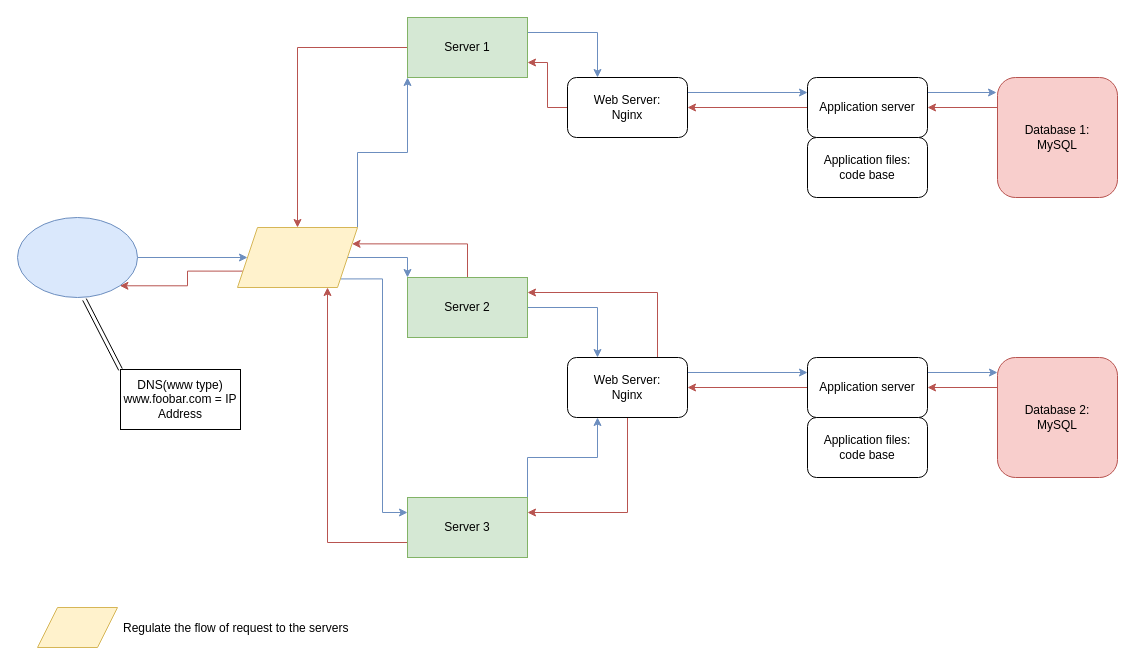
This 1135x665 diagram has some shape labels left out. Here are the shapes that lost their labels. From the top down, the centre of each, then its label:
(x=77, y=257): Client
(x=297, y=257): Load Balencer: HAproxy
(x=77, y=627): Load Balencer
